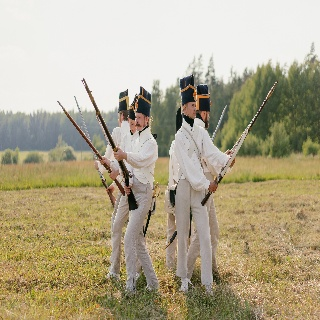rifle: (199, 79, 279, 210), (79, 76, 140, 212), (53, 98, 126, 199), (72, 94, 120, 209), (210, 105, 227, 146)
